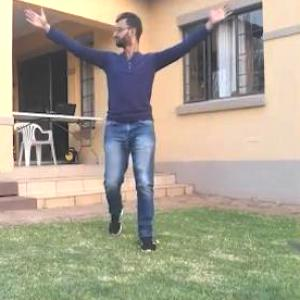takeoff: (27, 5, 227, 224)
